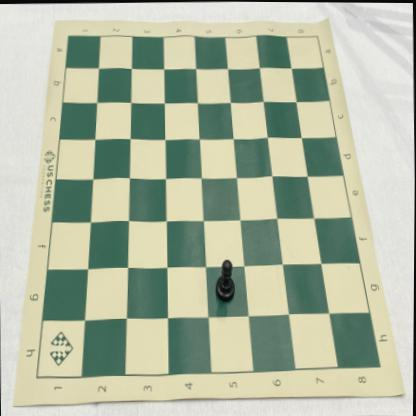black-pawn: (214, 258, 237, 301)
